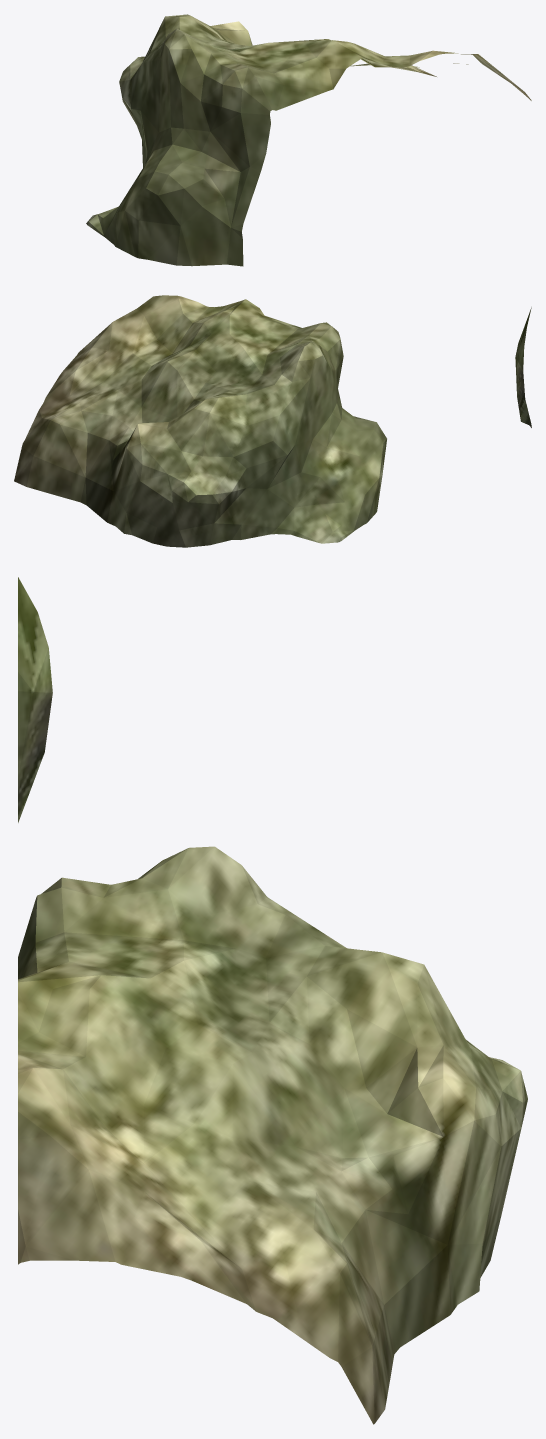
3 views of the same model, one above another, from view 1: azimuth 30°, elevation 25°; view 2: azimuth 150°, elevation 25°; view 3: azimuth 270°, elevation 25° (orthographic). The views are drawn at different scales.
Size of the model in its own units: 2.95 by 1.41 by 1.52.
Materials: 2 (2 with a texture image).
